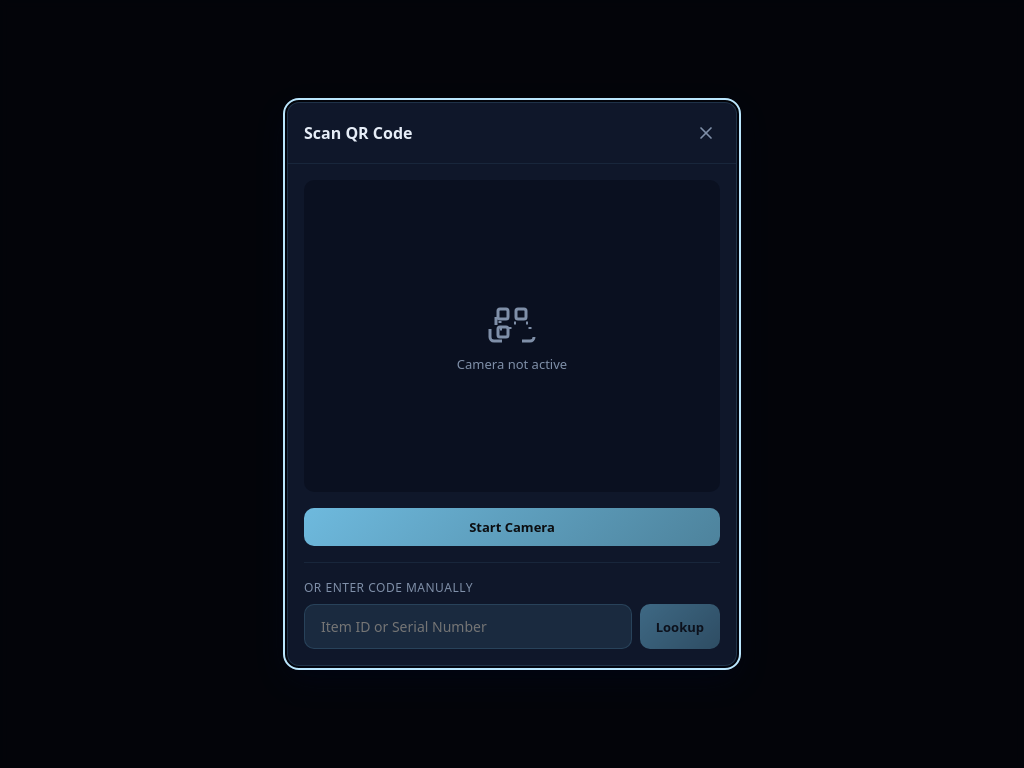
QRScannerModal manual lookup › shows an error for unknown codes and keeps the entry form
The width and height of the screenshot is (1024, 768).
Type "NOPE99" into the field labelled "Or enter code manually". click: (468,626)
box: [304, 604, 632, 649]
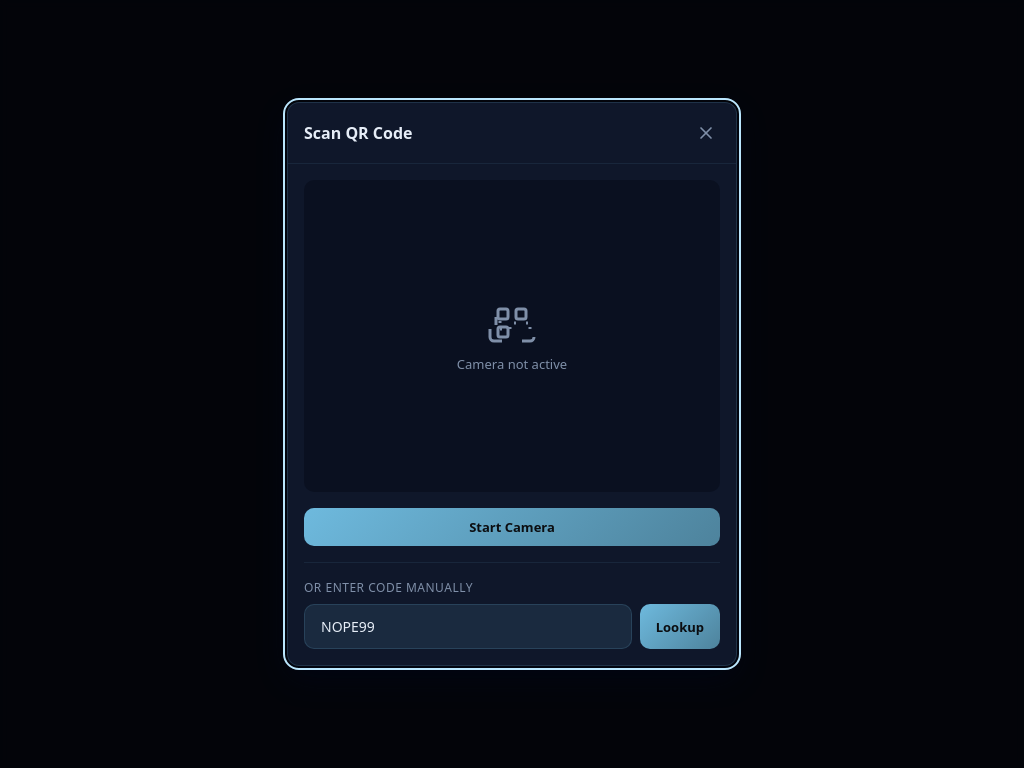
Click the button "Lookup". click: (680,626)
box: [640, 604, 720, 649]
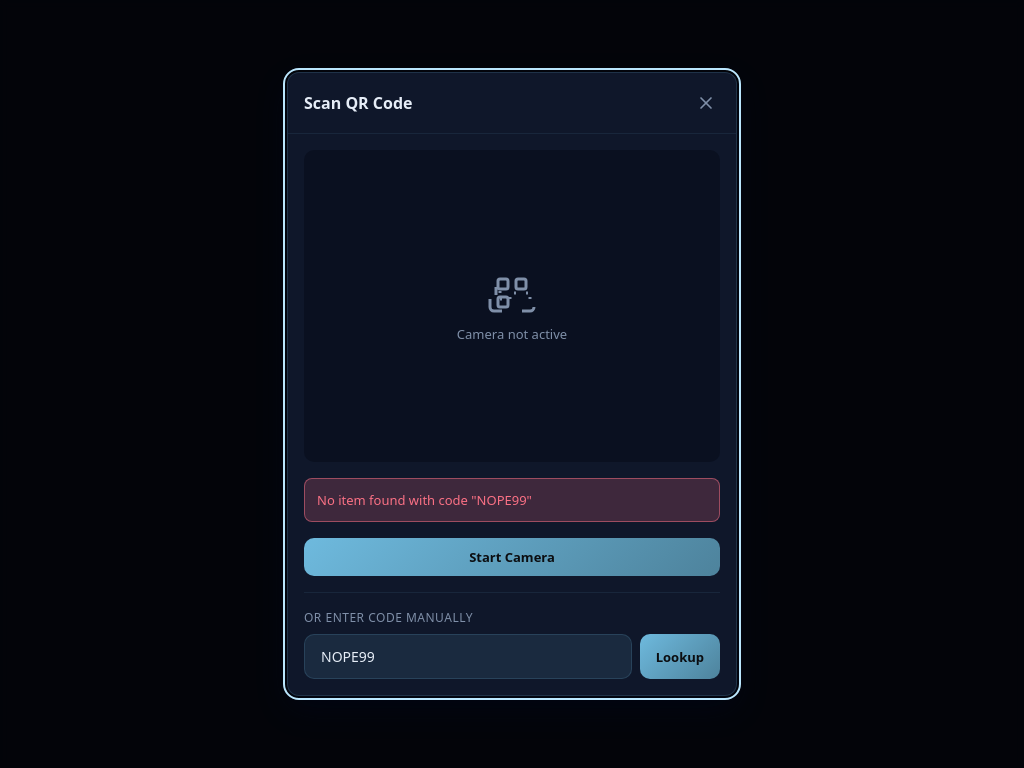
Expected: the text "No item found with code \"NOPE99\"" is shown, [304, 478, 720, 522]
